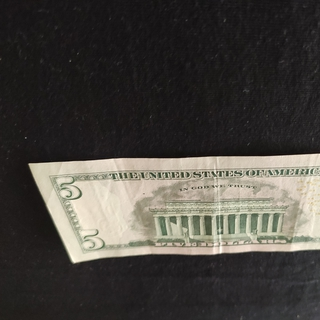5USDBack: (27, 152, 320, 264)
